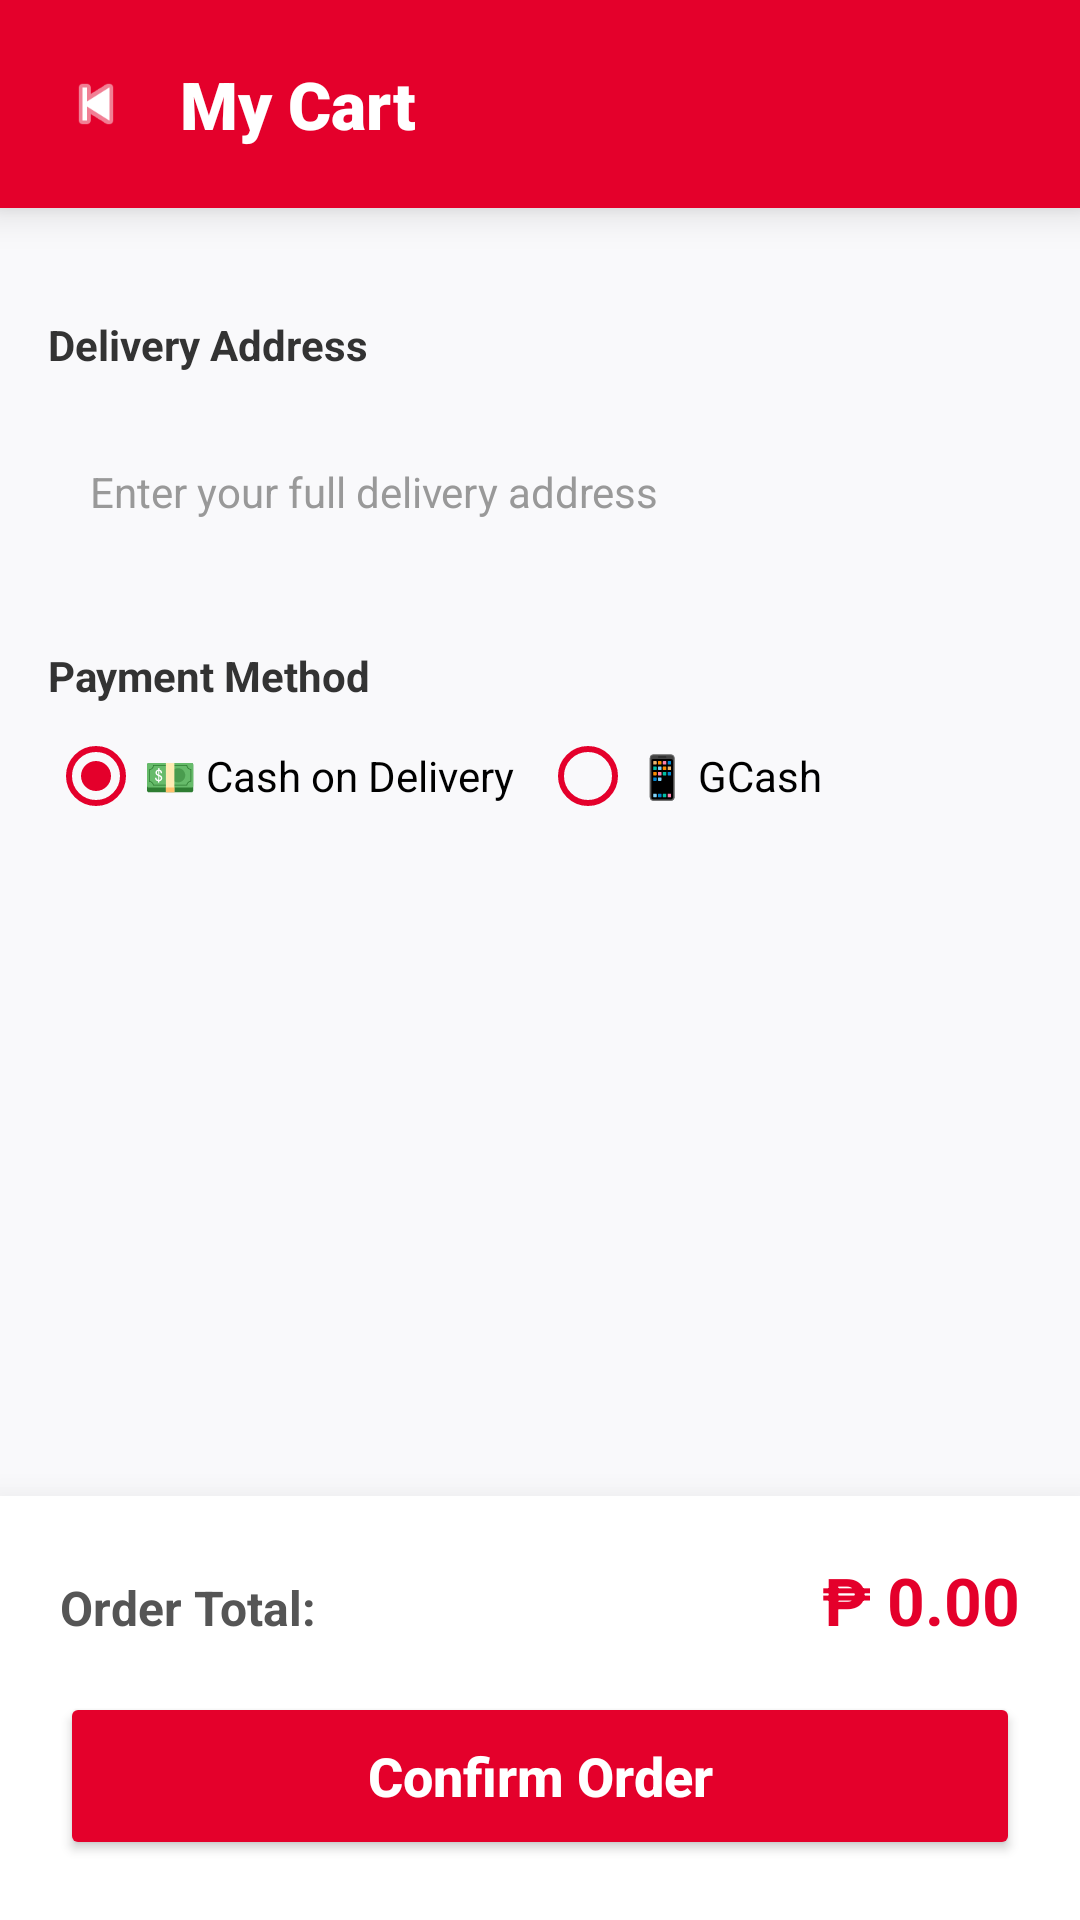

Where icons sit on this 1080 × 1920 app screen, as (x1, y1, x2, y2):
Back: (79, 84, 113, 124)
